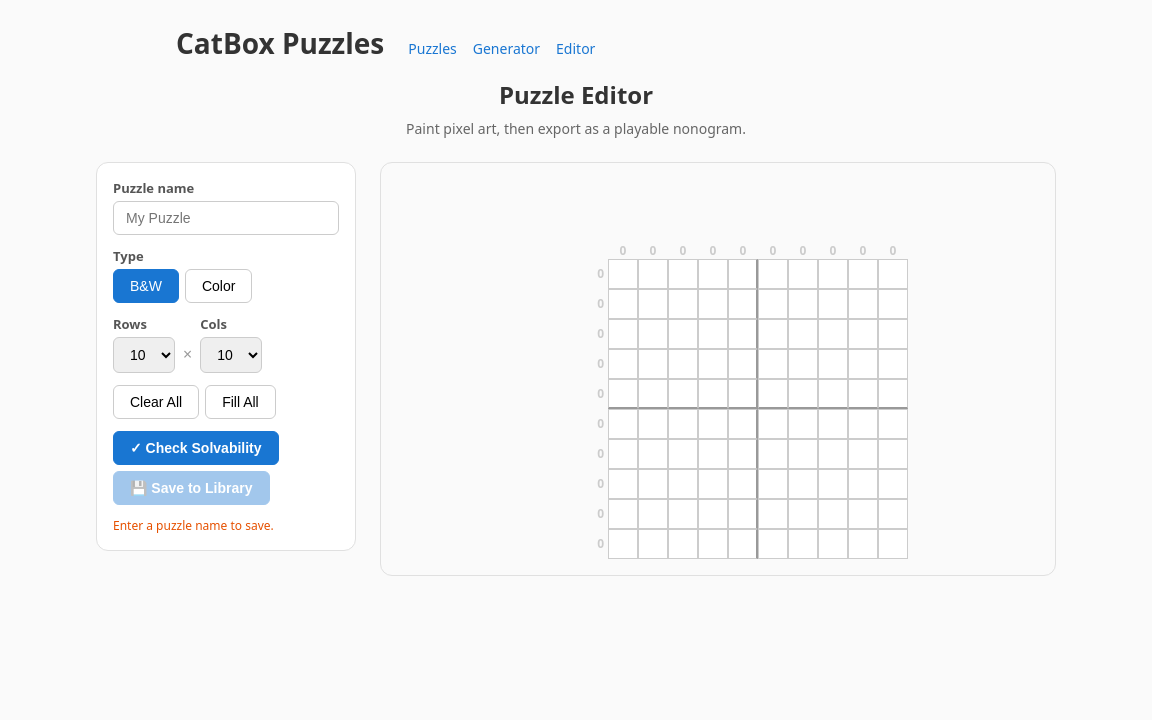
Test: EditorPage › unsaved changes indicator › shows unsaved indicator after painting
The image size is (1152, 720).
Click the cell named "Row 1, Column 1, empty".
click(623, 274)  # box x1=608 y1=259 x2=638 y2=289
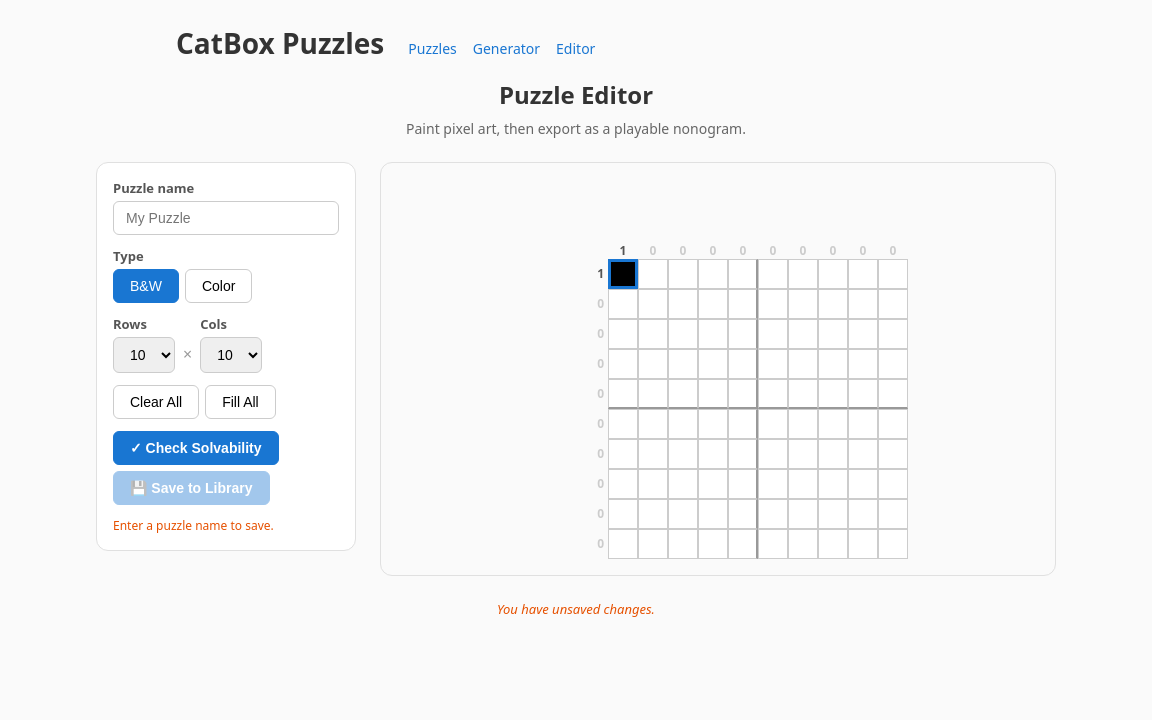
Now the text "You have unsaved changes." is shown, box x1=497 y1=600 x2=655 y2=618
